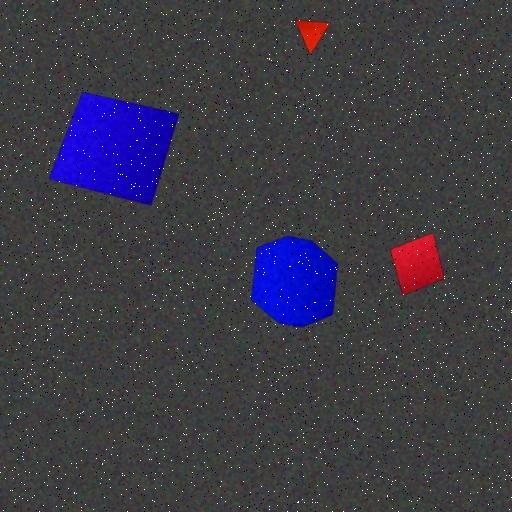BLUE_SQUARE: (48, 92, 180, 206)
RED_SQUARE: (390, 232, 446, 297)
